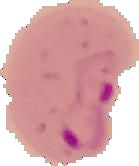parasitized: (71, 43, 125, 122), (52, 97, 114, 162)
